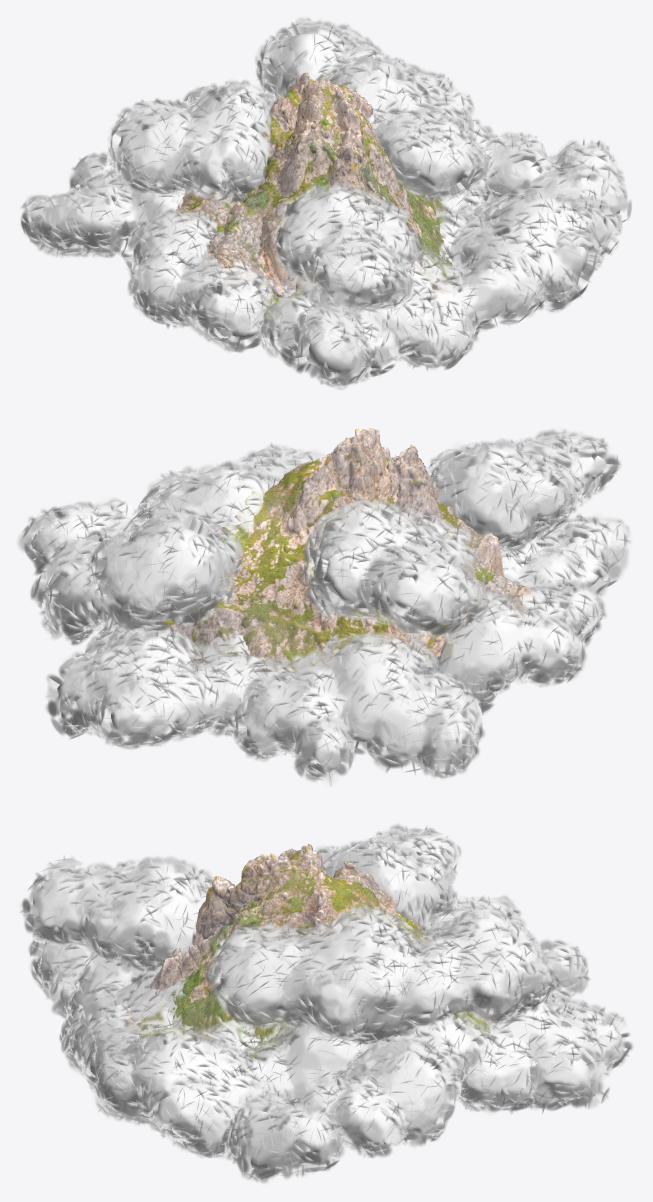
File: cloudy_mountain (1).glb
The picture shows the model from 3 angles, top to bottom: view 1: azimuth 30°, elevation 25°; view 2: azimuth 150°, elevation 25°; view 3: azimuth 270°, elevation 25°; orthographic projection. The views are drawn at different scales.
Visible parts, largest first — view 1: Object_6, Object_5, Object_3, Object_4; view 2: Object_5, Object_6, Object_3, Object_4; view 3: Object_5, Object_6, Object_3, Object_4.
Part boxes in pixels (x1,y1,x2,y2): Object_6: [18, 94, 631, 376]; Object_5: [68, 17, 592, 389]; Object_3: [31, 32, 620, 376]; Object_4: [174, 72, 455, 321]; Object_5: [17, 436, 632, 786]; Object_6: [22, 427, 607, 779]; Object_3: [33, 442, 623, 772]; Object_4: [144, 428, 541, 672]; Object_5: [28, 823, 632, 1171]; Object_6: [19, 856, 526, 1183]; Object_3: [33, 837, 621, 1168]; Object_4: [119, 843, 504, 1097].
Size of the model in its own units: 74.41 by 31.25 by 77.59.
3 materials, 2 textured.
